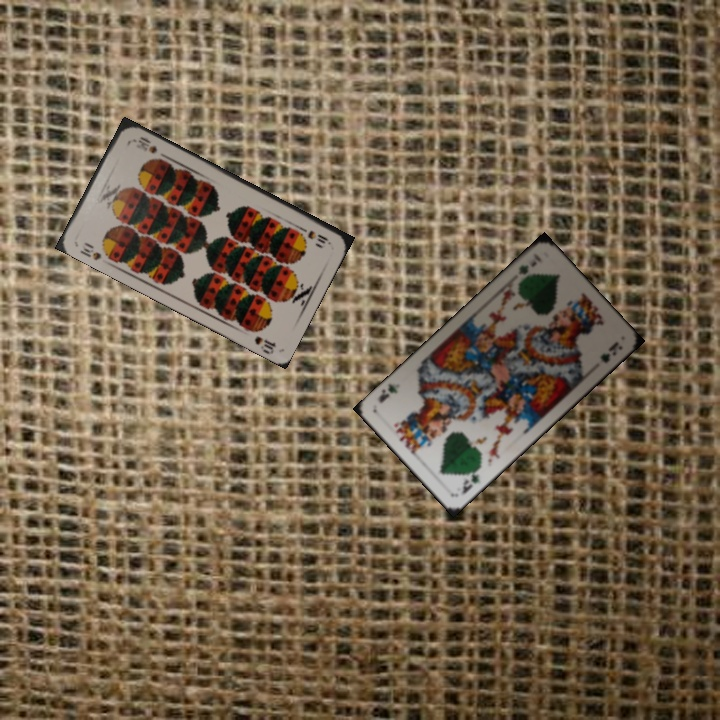GK: (458, 463, 482, 497), (514, 257, 540, 277)
S10: (295, 223, 333, 247), (76, 238, 104, 263)
